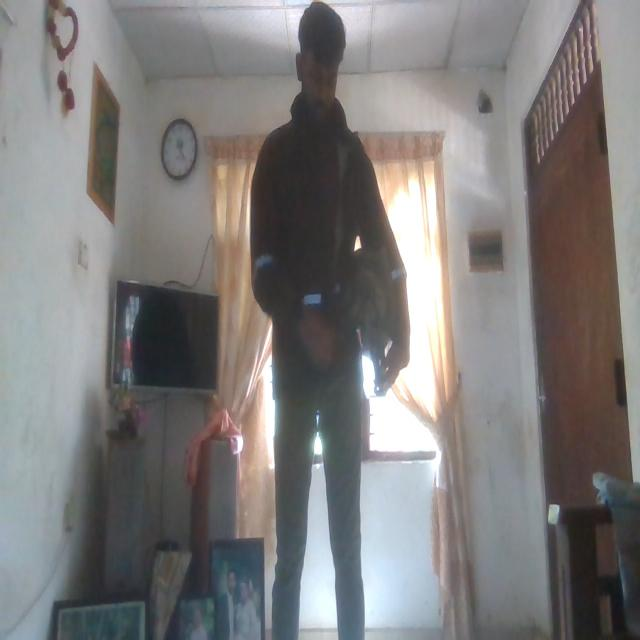Jacket_Wearer: (241, 105, 409, 419)
Person: (241, 0, 403, 639)
